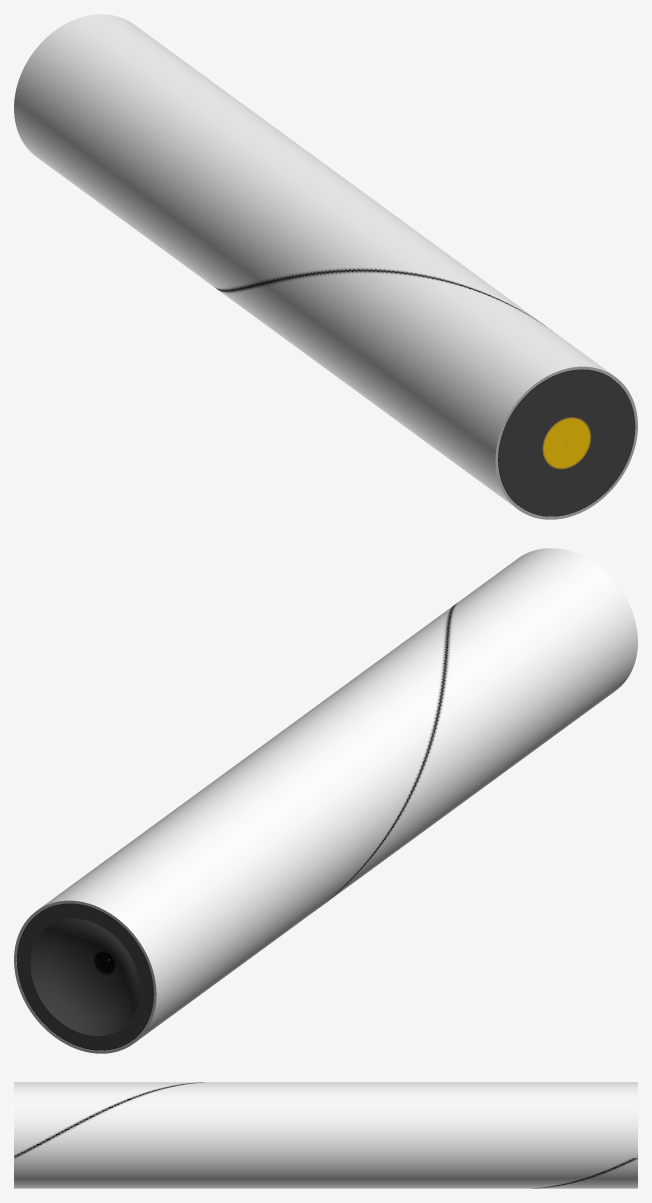
The model's file is motor_tube.obj.
3 views of the same model, one above another, from view 1: azimuth 30°, elevation 25°; view 2: azimuth 150°, elevation 25°; view 3: azimuth 270°, elevation 25° (orthographic). The views are drawn at different scales.
Visible parts, largest first — view 1: 1_Motor Tube (MUTD), 1_Motor Tube (MUTD)_M2400T; view 2: 1_Motor Tube (MUTD), 1_Motor Tube (MUTD)_M2400T; view 3: 1_Motor Tube (MUTD).
Part boxes in pixels (x1,y1,x2,y2): 1_Motor Tube (MUTD): (14, 14, 637, 519); 1_Motor Tube (MUTD)_M2400T: (498, 369, 635, 516); 1_Motor Tube (MUTD): (14, 548, 637, 1053); 1_Motor Tube (MUTD)_M2400T: (17, 903, 153, 1050); 1_Motor Tube (MUTD): (14, 1082, 637, 1188).
Size of the model in its own units: 2.04 by 2.04 by 11.94.
Materials: 2 (2 with a texture image).
